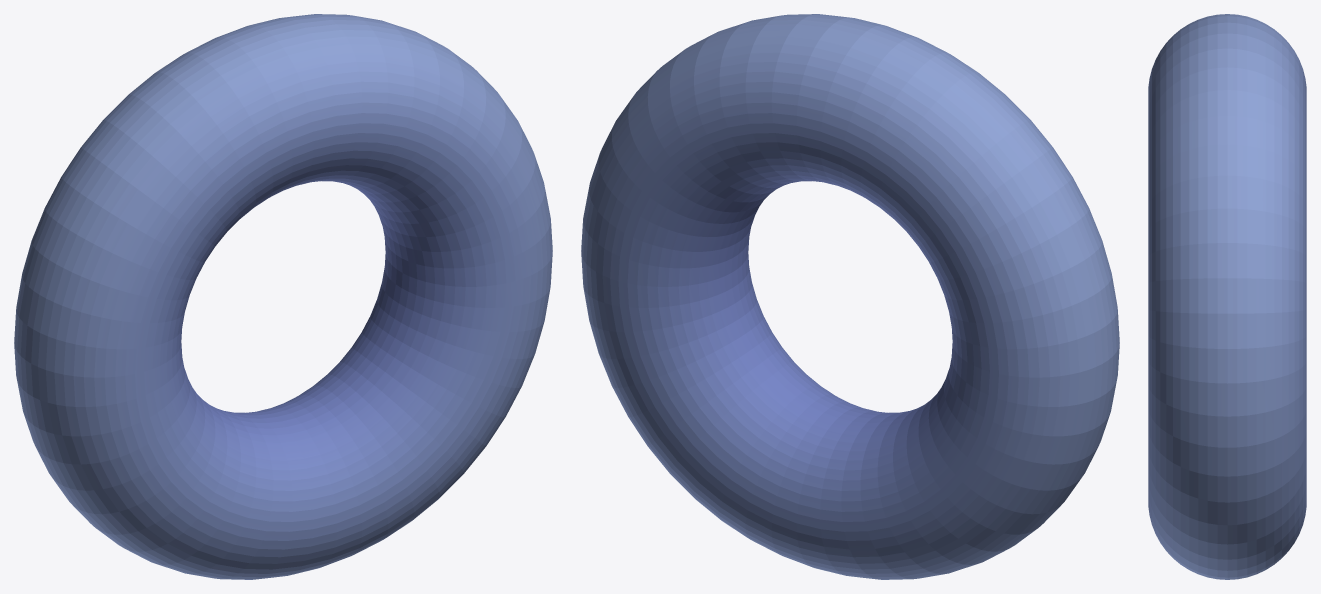
The picture shows the model from 3 angles, left to right: view 1: azimuth 30°, elevation 25°; view 2: azimuth 150°, elevation 25°; view 3: azimuth 270°, elevation 25°; orthographic projection. The views are drawn at different scales.
Visible parts, largest first — view 1: world; view 2: world; view 3: world.
Part boxes in pixels (x1,y1,x2,y2): world: (14,14,552,579); world: (581,14,1119,579); world: (1148,14,1306,579).
Bounding box in the file's own units: 18.53 × 18.5 × 5.19.
